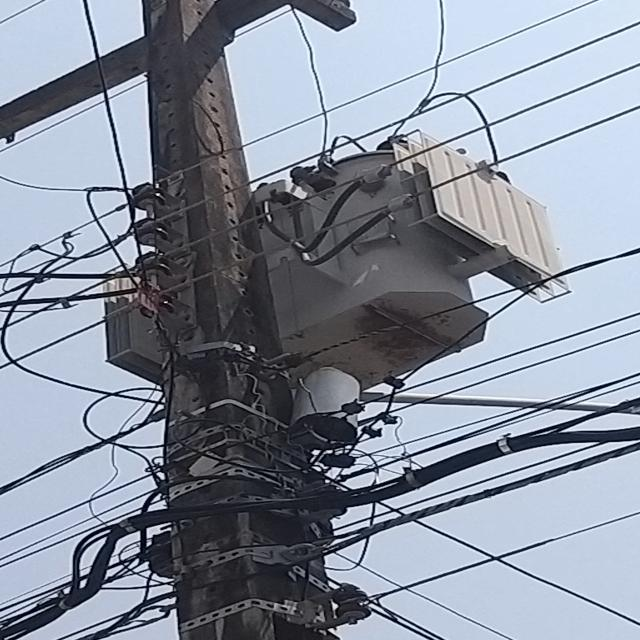Plaqueta: (138, 291, 160, 311)
